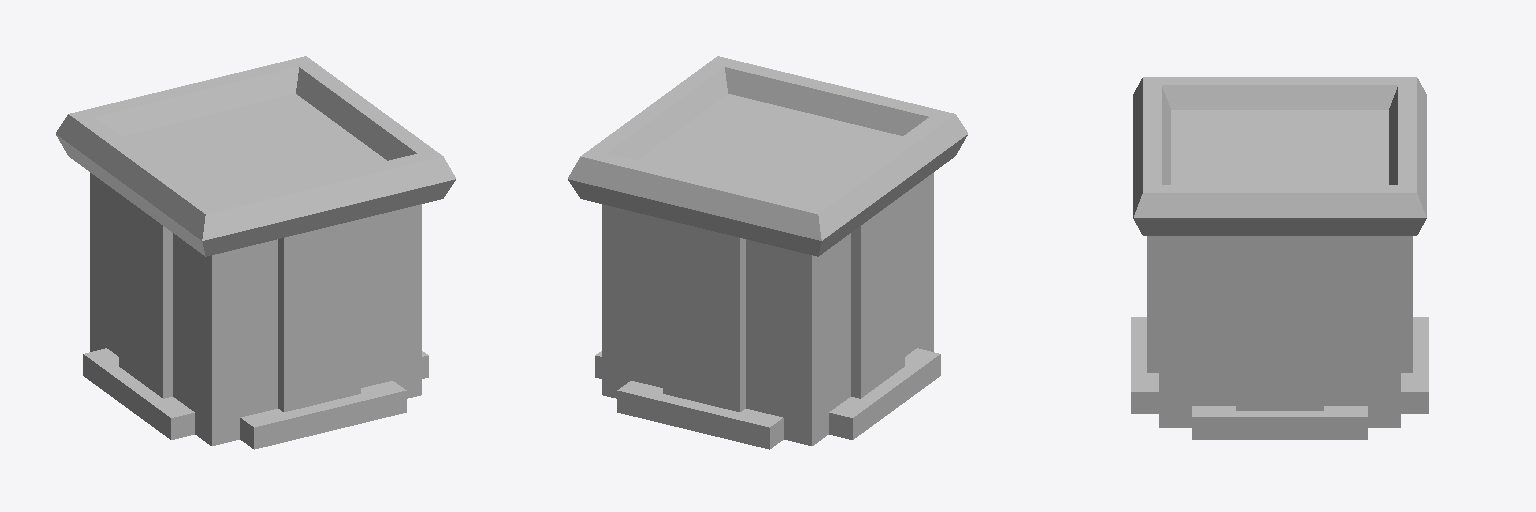
File: hammerstand-normal.obj
The picture shows the model from 3 angles: view 1: azimuth 30°, elevation 25°; view 2: azimuth 150°, elevation 25°; view 3: azimuth 270°, elevation 25°; orthographic projection.
Parts seen in each view (by area): view 1: hammerstand-normal_Cube.001; view 2: hammerstand-normal_Cube.001; view 3: hammerstand-normal_Cube.001.
Boxes of the visible parts, box(x1,y1,x2,y2) form: hammerstand-normal_Cube.001: box(56, 56, 455, 449); hammerstand-normal_Cube.001: box(568, 56, 967, 449); hammerstand-normal_Cube.001: box(1131, 77, 1428, 439).
Size of the model in its own units: 1.1 by 0.9878 by 1.1.